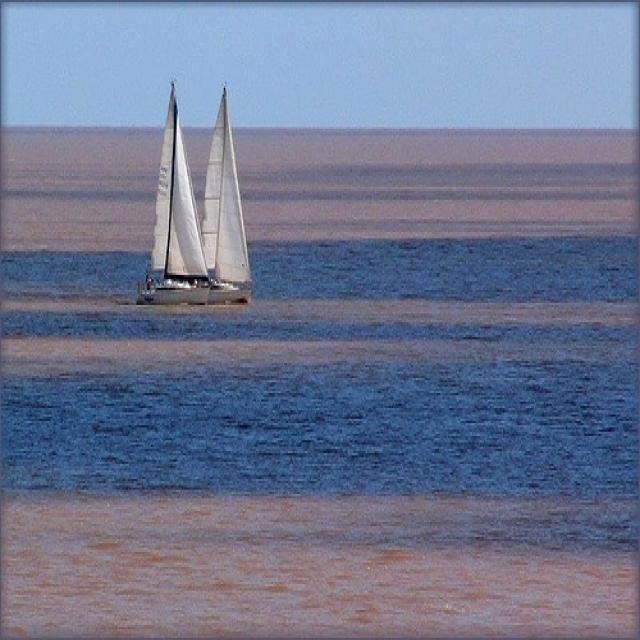boat: (134, 73, 214, 307), (200, 84, 253, 309)
